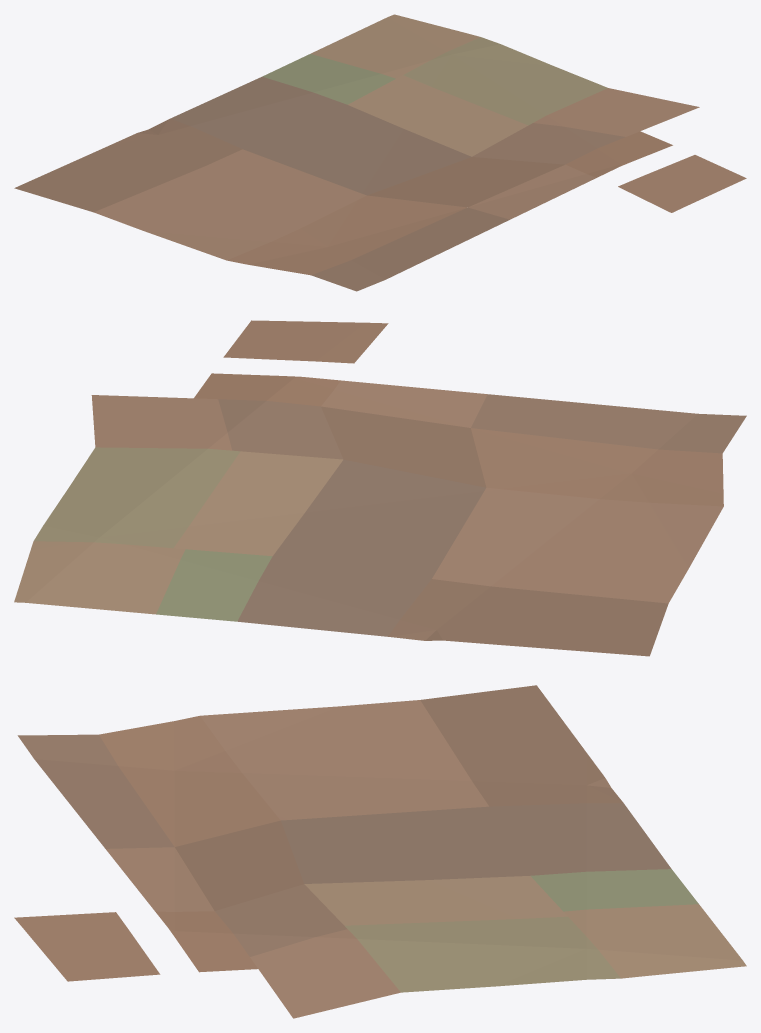
Rendered from farm_-30_-42_soil.glb.
3 renders of one model, top to bottom at view 1: azimuth 30°, elevation 25°; view 2: azimuth 150°, elevation 25°; view 3: azimuth 270°, elevation 25°, orthographic. The views are drawn at different scales.
Parts seen in each view (by area): view 1: geometry_0; view 2: geometry_0; view 3: geometry_0.
Boxes of the visible parts, left/top/right/bottom form: geometry_0: left=14, top=14, right=746, bottom=291; geometry_0: left=14, top=320, right=746, bottom=656; geometry_0: left=14, top=685, right=746, bottom=1018.
Bounding box in the file's own units: 160 × 7.48 × 142.
